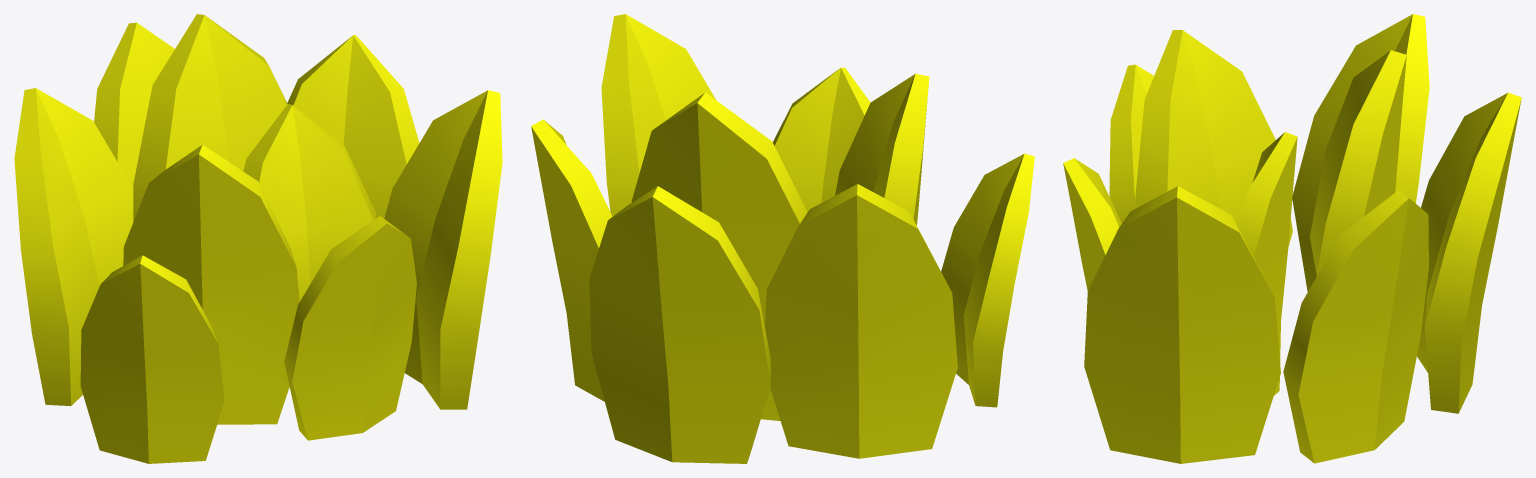
File: kaykit-grass-1-c-color-1.glb
3 renders of one model, left to right at view 1: azimuth 30°, elevation 25°; view 2: azimuth 150°, elevation 25°; view 3: azimuth 270°, elevation 25°, orthographic. The views are drawn at different scales.
Parts seen in each view (by area): view 1: Grass_1_C_Color1; view 2: Grass_1_C_Color1; view 3: Grass_1_C_Color1.
Boxes of the visible parts, x1,y1,x2,y2 form: Grass_1_C_Color1: (14,14,502,463); Grass_1_C_Color1: (531,14,1034,463); Grass_1_C_Color1: (1063,14,1521,463).
Size of the model in its own units: 0.7518 by 0.5835 by 0.7171.
